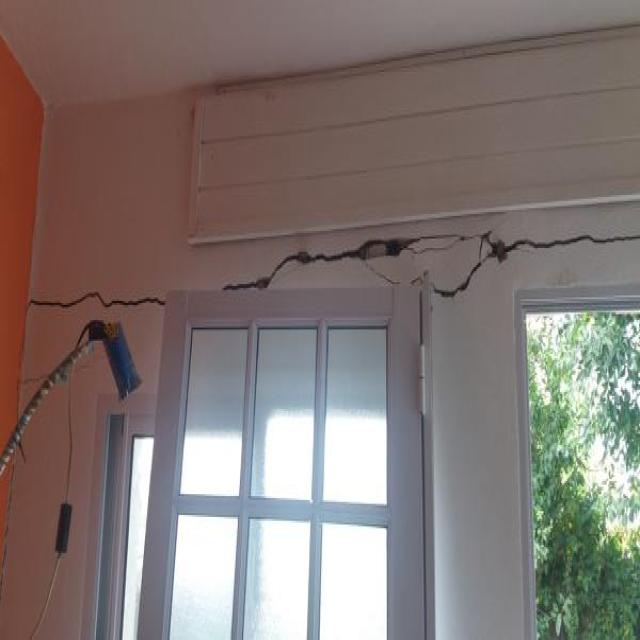crack: (430, 229, 636, 297), (222, 231, 417, 289), (26, 288, 168, 312)
